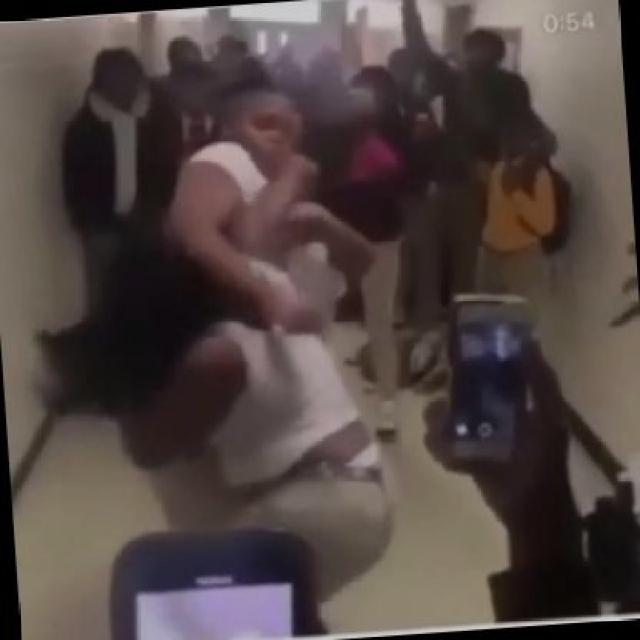fight: (33, 80, 394, 638)
